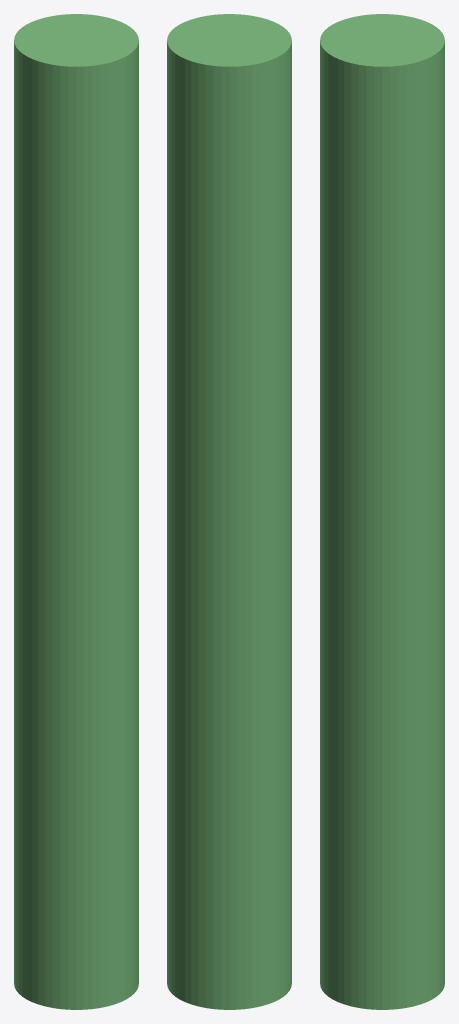
The model's file is 100mm-bolt.glb.
The picture shows the model from 3 angles, left to right: view 1: azimuth 90°, elevation 25°; view 2: azimuth 150°, elevation 25°; view 3: azimuth 270°, elevation 25°; orthographic projection.
Parts seen in each view (by area): view 1: Mesh_Mesh_head_geo.001_lambert2SG.008; view 2: Mesh_Mesh_head_geo.001_lambert2SG.008; view 3: Mesh_Mesh_head_geo.001_lambert2SG.008.
Boxes of the visible parts, x1,y1,x2,y2 form: Mesh_Mesh_head_geo.001_lambert2SG.008: [14, 14, 138, 1009]; Mesh_Mesh_head_geo.001_lambert2SG.008: [167, 14, 291, 1009]; Mesh_Mesh_head_geo.001_lambert2SG.008: [320, 14, 444, 1009].
Size of the model in its own units: 0.12 by 1 by 0.12.
